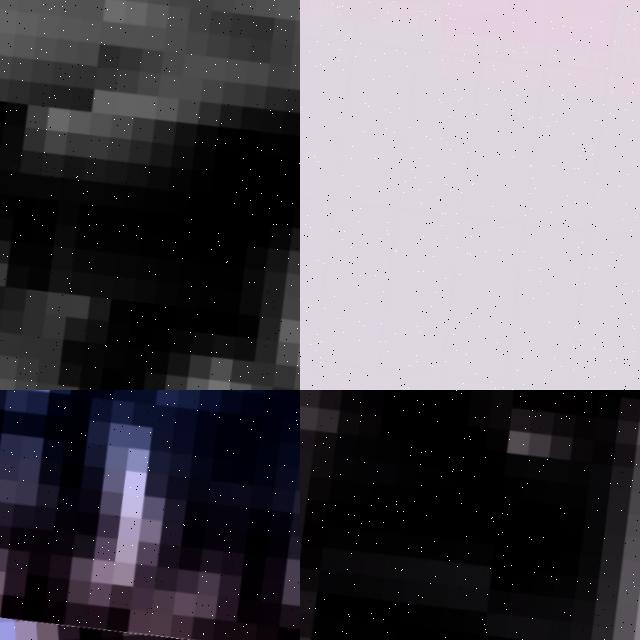drone: (300, 0, 640, 390), (0, 0, 300, 390), (300, 390, 640, 640), (0, 390, 300, 640)
